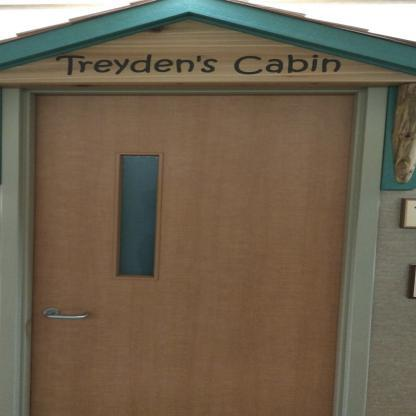door: (34, 93, 362, 415)
lever: (42, 312, 92, 322)
